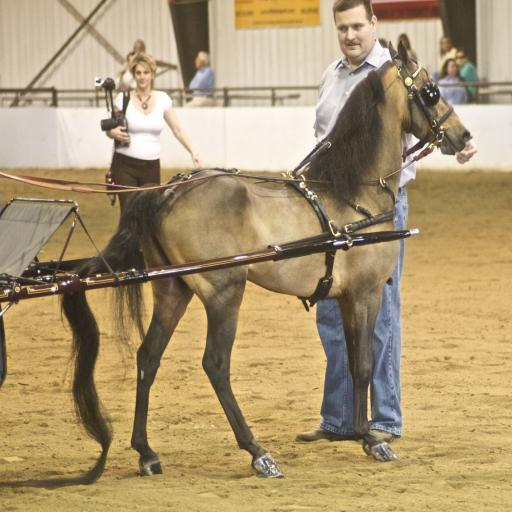horse: (54, 38, 470, 484)
